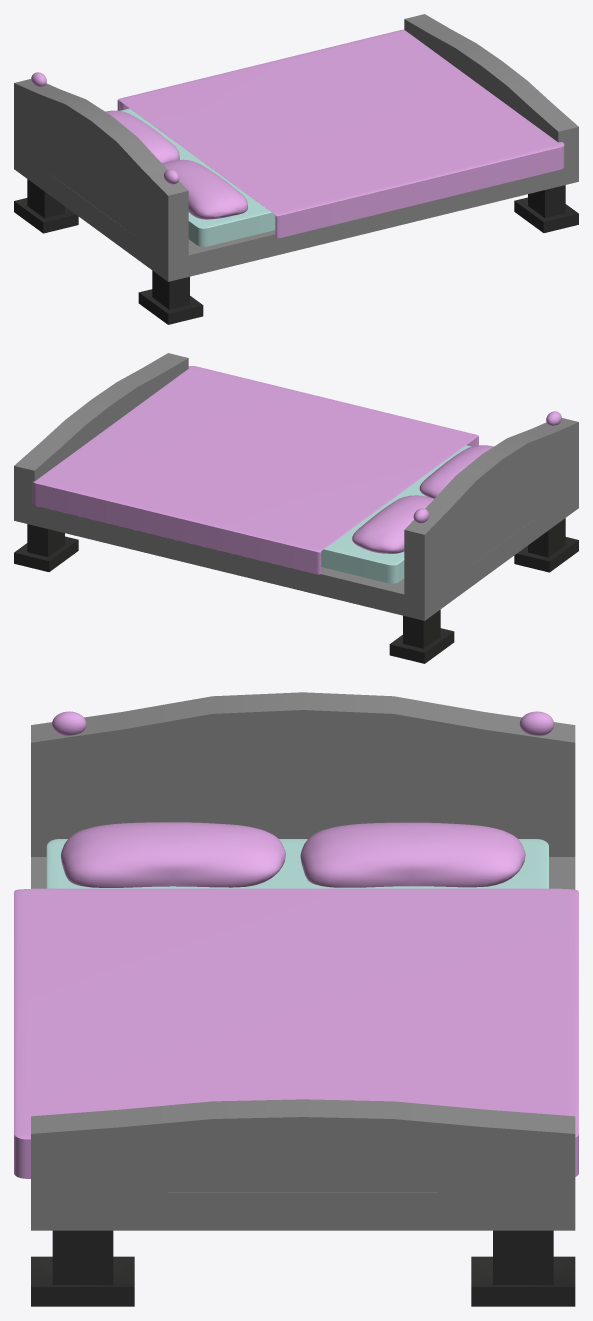
File: DoubleBed.fbx
3 views of the same model, one above another, from view 1: azimuth 30°, elevation 25°; view 2: azimuth 150°, elevation 25°; view 3: azimuth 270°, elevation 25° (orthographic). The views are drawn at different scales.
Parts seen in each view (by area): view 1: DoubleBed; view 2: DoubleBed; view 3: DoubleBed.
Part boxes in pixels (<box>): DoubleBed: <box>14,14,578,324</box>; DoubleBed: <box>14,353,578,663</box>; DoubleBed: <box>14,692,578,1306</box>.
Bounding box in the file's own units: 2 × 1.35 × 0.6871.
